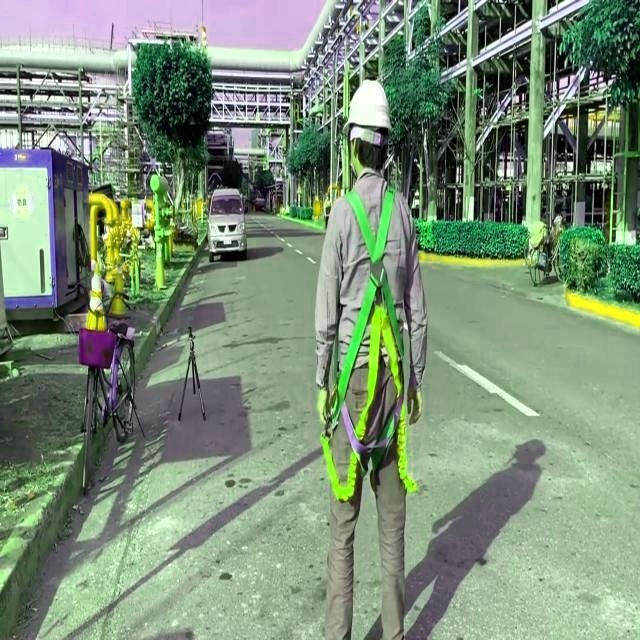safety belt: (334, 194, 434, 488)
